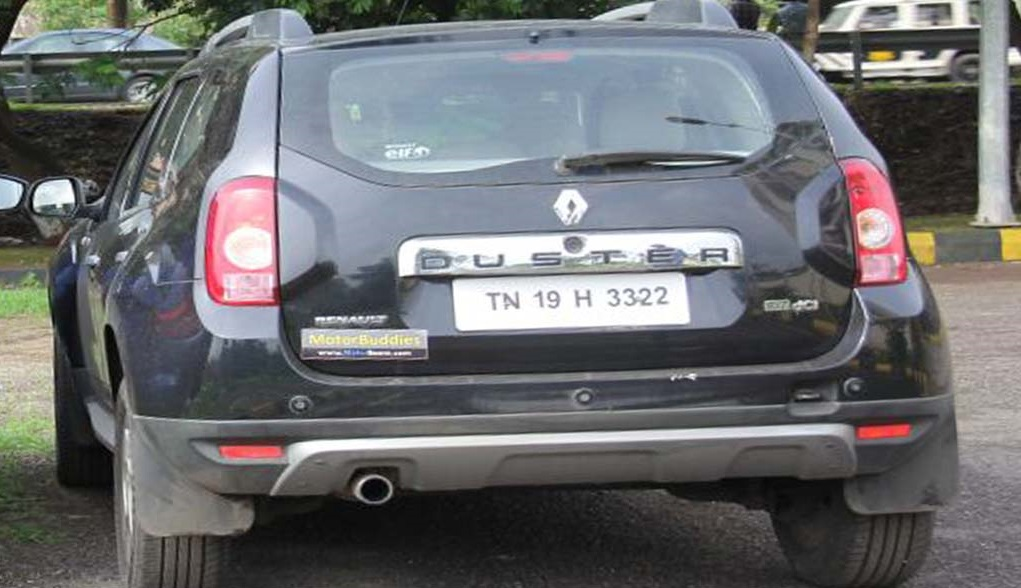TN19H3322: (450, 272, 692, 327)
